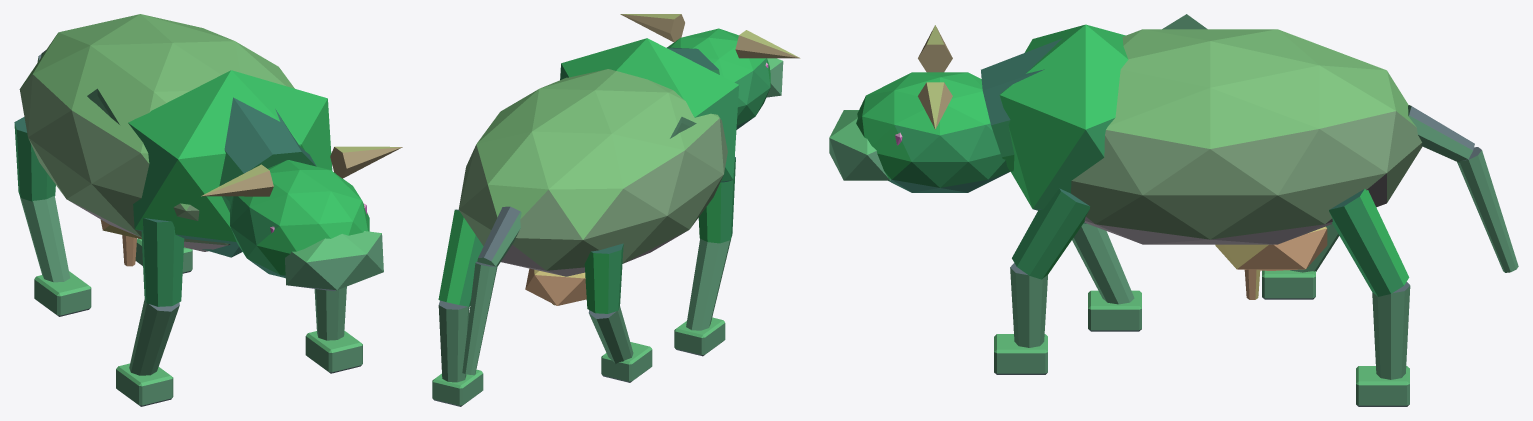
The model's file is creature_cow_passing_b_v01.glb.
3 views of the same model, side by side, from view 1: azimuth 30°, elevation 25°; view 2: azimuth 150°, elevation 25°; view 3: azimuth 270°, elevation 25° (orthographic). The views are drawn at different scales.
Visible parts, largest first — view 1: GEO_creature_cow_passing_b_v01; view 2: GEO_creature_cow_passing_b_v01; view 3: GEO_creature_cow_passing_b_v01.
Boxes of the visible parts, <box> form: GEO_creature_cow_passing_b_v01: <box>14,14,402,406</box>; GEO_creature_cow_passing_b_v01: <box>432,14,800,406</box>; GEO_creature_cow_passing_b_v01: <box>829,14,1518,406</box>.
Bounding box in the file's own units: 1.18 × 1.58 × 2.93.
